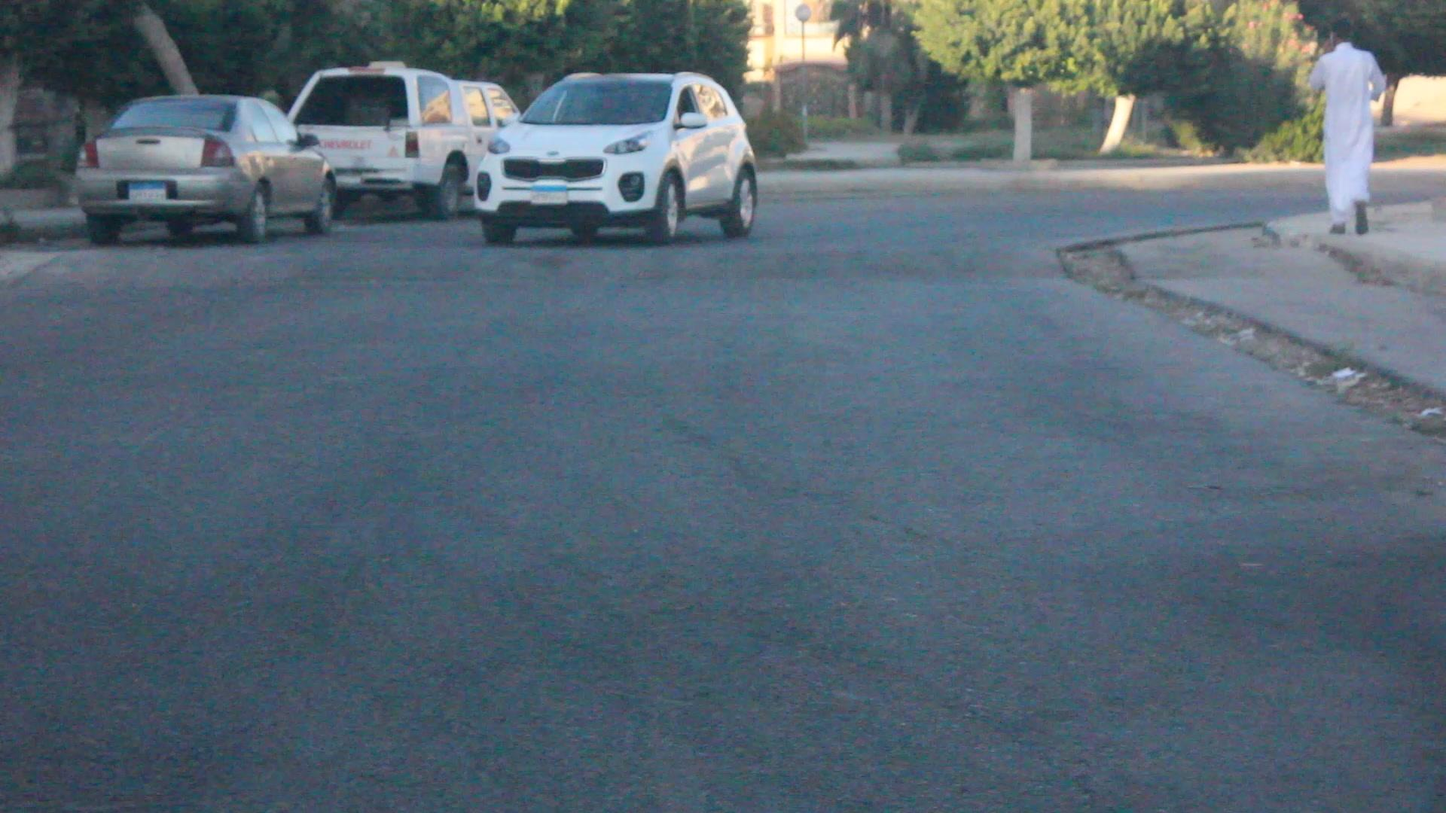Bump: (36, 235, 1086, 279)
